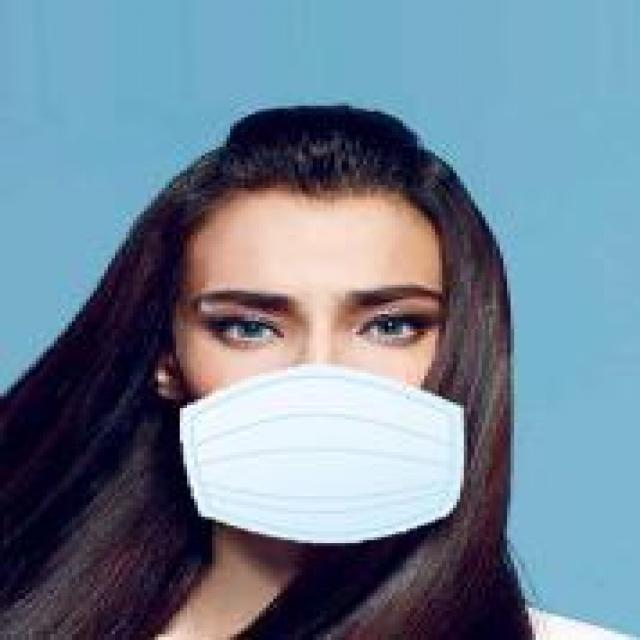mask: (144, 97, 532, 549)
